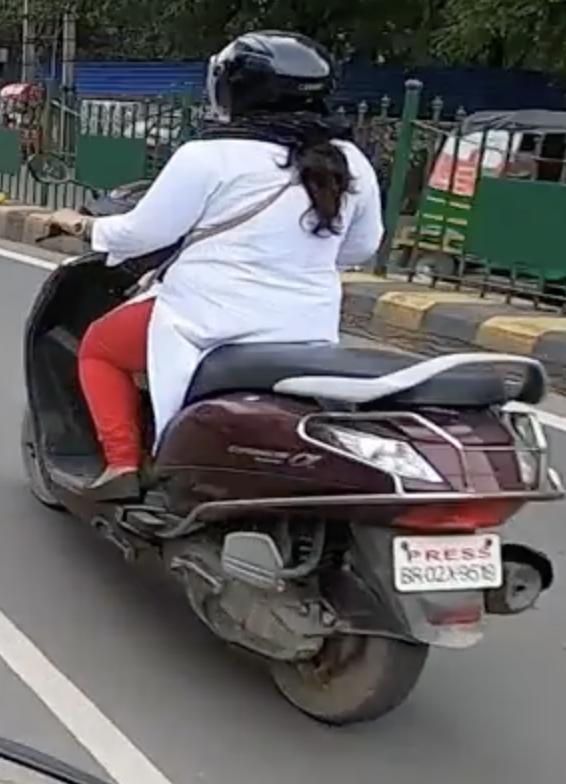motor: (13, 108, 552, 733)
number: (338, 501, 532, 621)
with helmet: (170, 9, 368, 157)
